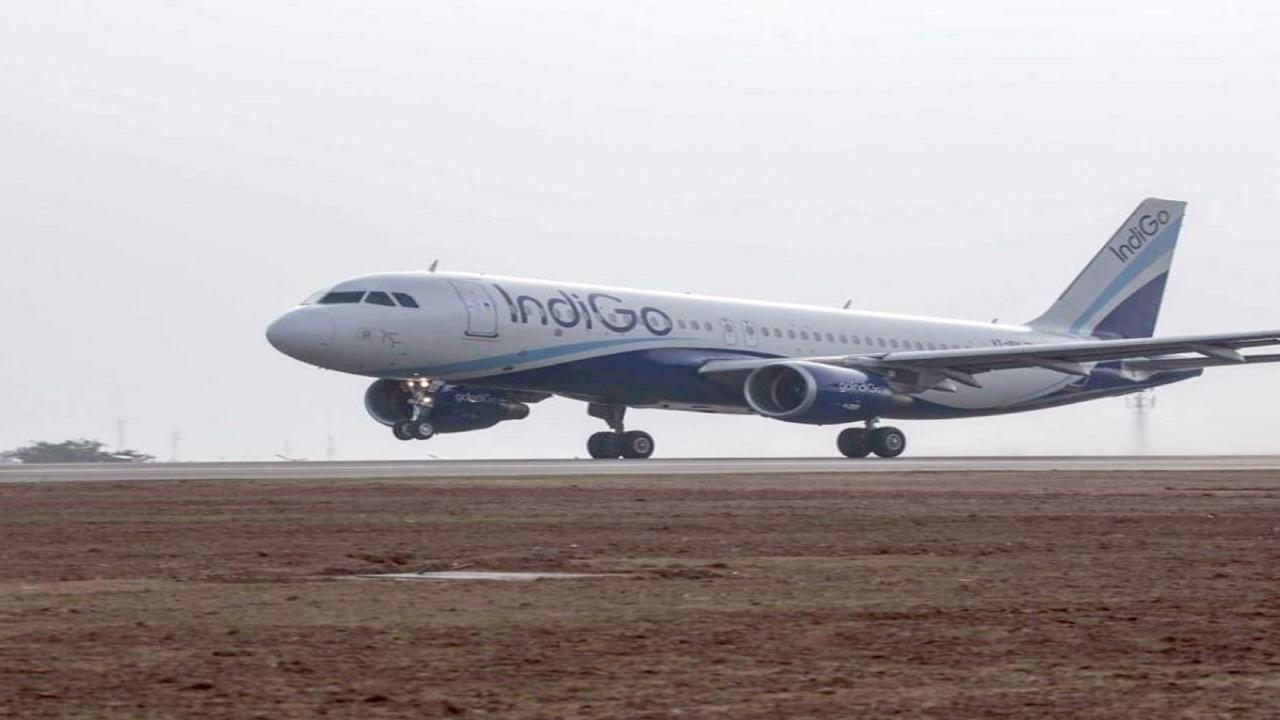Airplane: (246, 184, 1280, 477)
